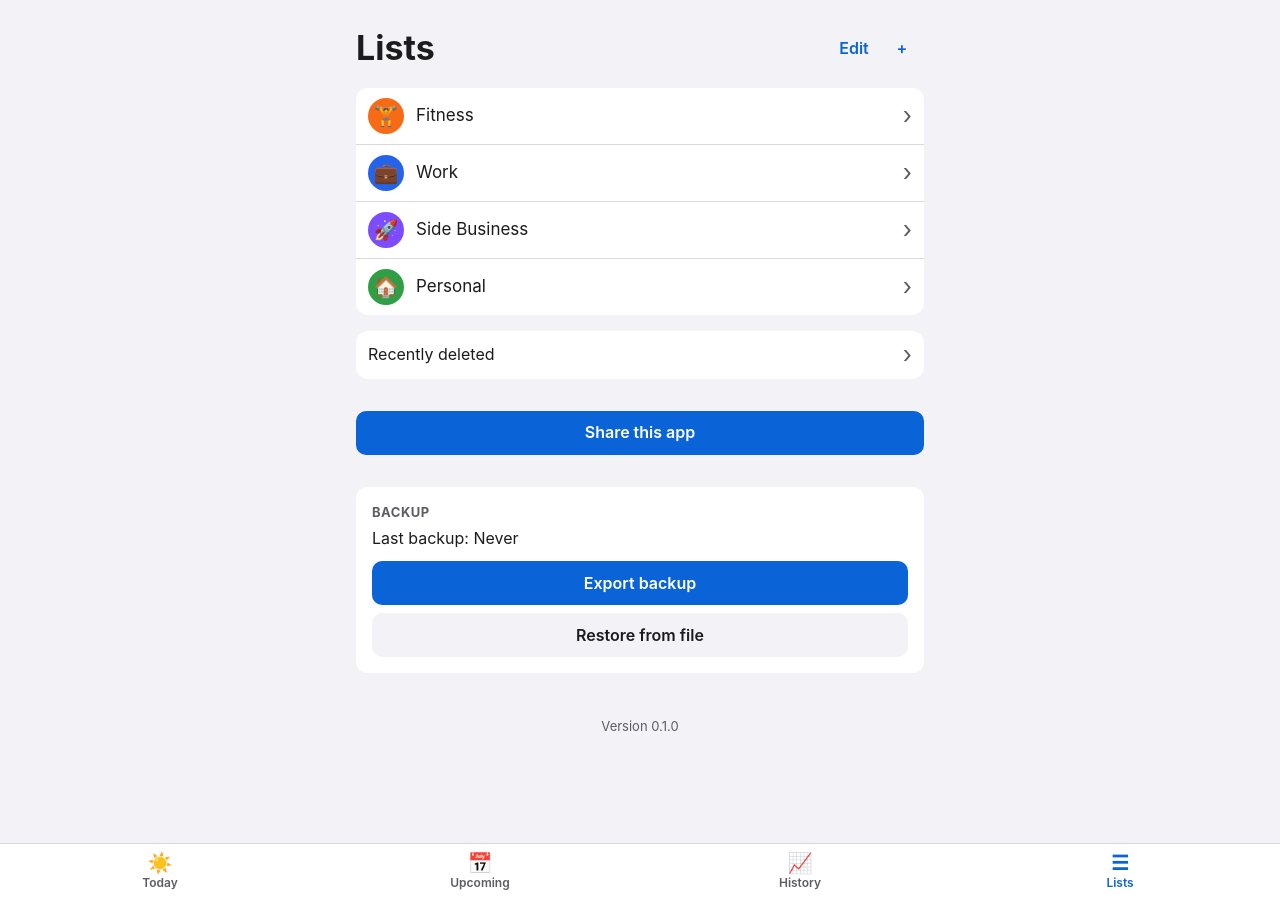
Test: export › reports a backup date that could not be saved
Click the button "Export backup". click: {"x": 640, "y": 583}
box: x1=372 y1=561 x2=908 y2=605
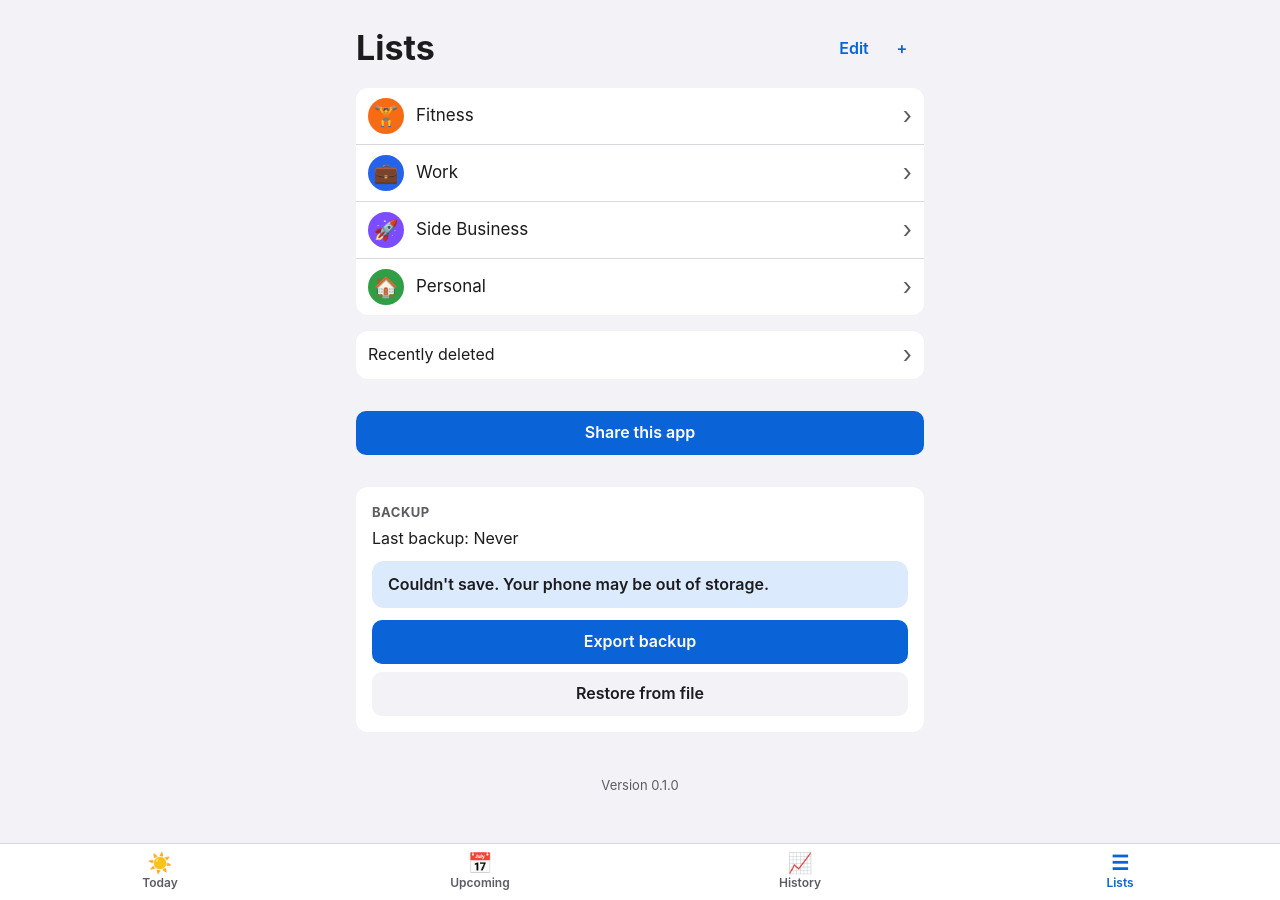
Expected: the element "Backup" shows "Last backup: Never", x1=372 y1=528 x2=518 y2=548
Expected: the text "Couldn't save. Your phone may be out of storage." is shown, x1=372 y1=561 x2=908 y2=608
